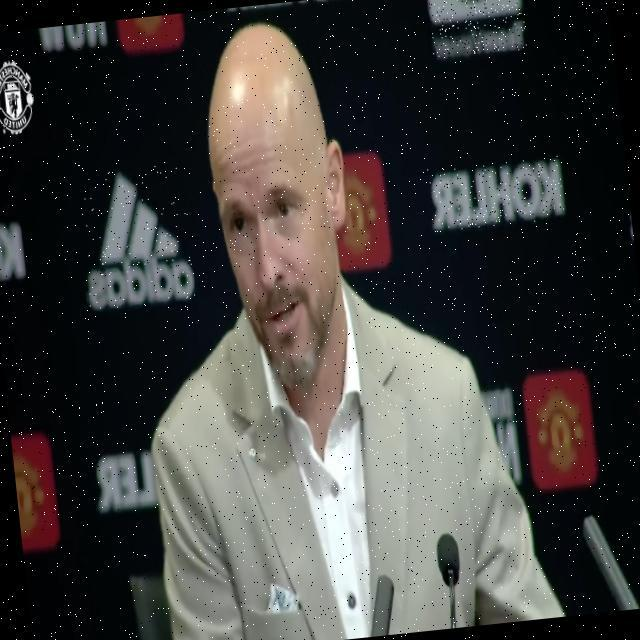Adidas: (74, 160, 196, 313)
Kohler: (427, 156, 566, 232)
TeamViewer: (426, 0, 527, 58)
